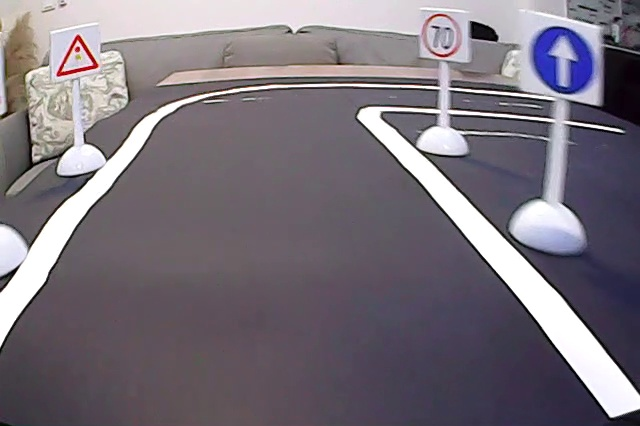red light: (52, 31, 104, 78)
speed limit 70: (421, 11, 466, 61)
